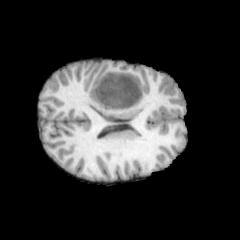glioma: (89, 70, 144, 110)
